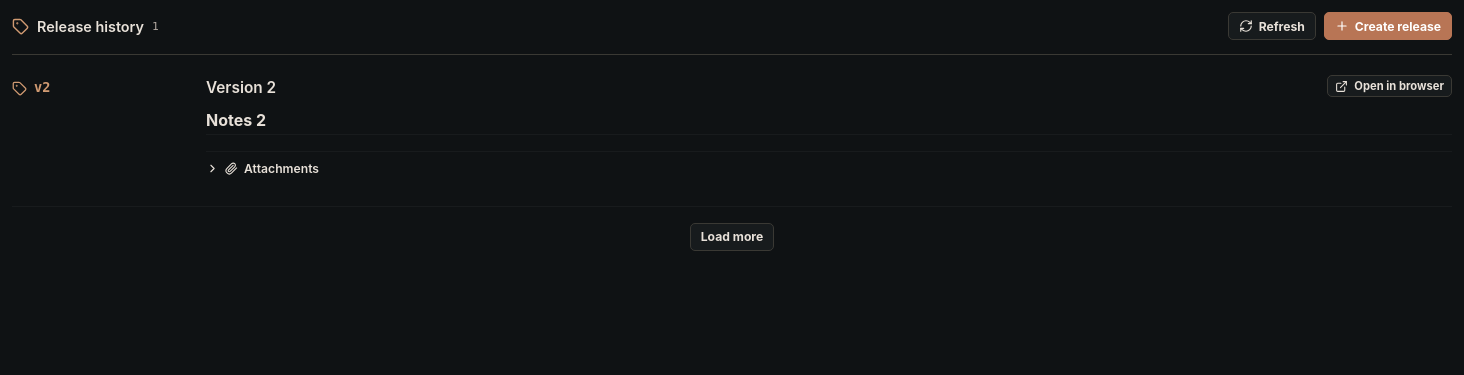
Test: hosting creator navigation › loads more release history and refreshes the selected endpoint without starting the creator
The image size is (1464, 375).
Step 1. Click the button "Load more" → click(732, 236), box [690,222,774,250]
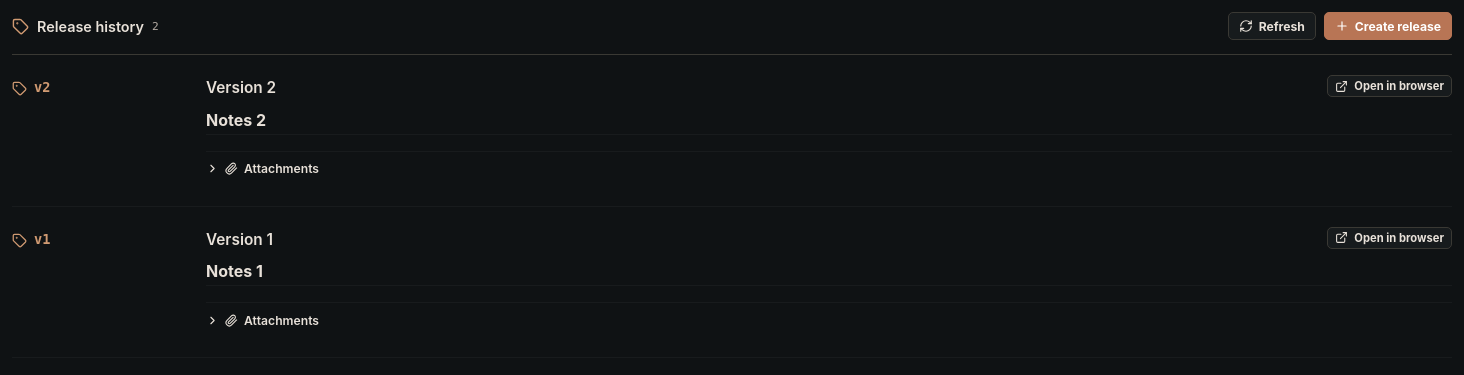
Expected: the number of list items with class "hosting-release" is 2, [12,55,1452,206]; [12,206,1452,358]
Step 2. Click the button "Refresh" → click(1272, 26), box [1228,12,1316,40]
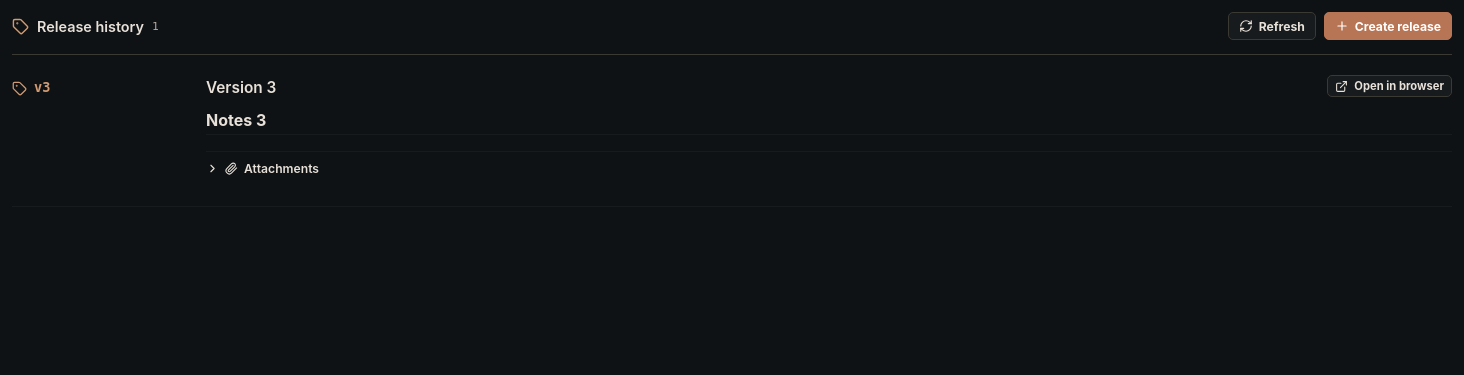
Expected: the number of list items with class "hosting-release" is 1, [12,55,1452,206]
Expected: the heading "Notes 3" is shown, [206,110,1452,134]
